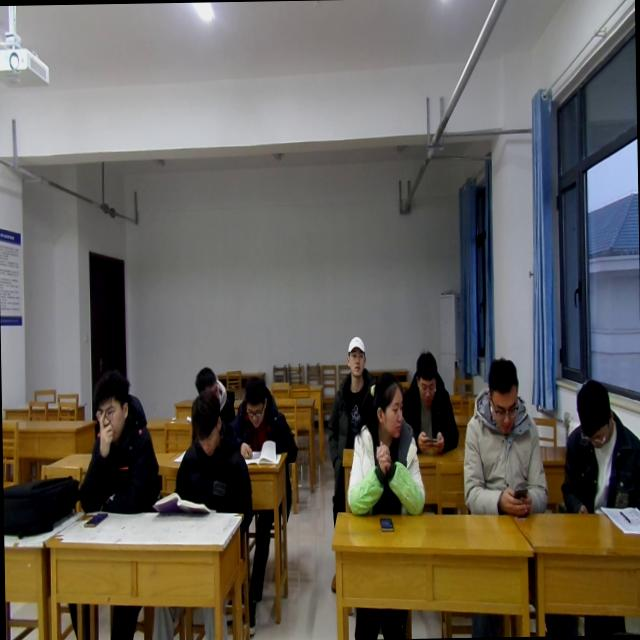down: (90, 360, 134, 440), (484, 350, 520, 436), (572, 379, 613, 451), (186, 390, 224, 460), (410, 347, 440, 409), (240, 369, 268, 426), (190, 362, 220, 402)
lookup: (344, 331, 366, 379)
sit: (460, 354, 548, 518), (74, 372, 160, 516), (344, 376, 426, 521), (557, 379, 640, 513), (172, 396, 251, 522), (327, 328, 382, 444), (398, 349, 458, 454), (234, 377, 300, 467), (191, 356, 231, 424)
